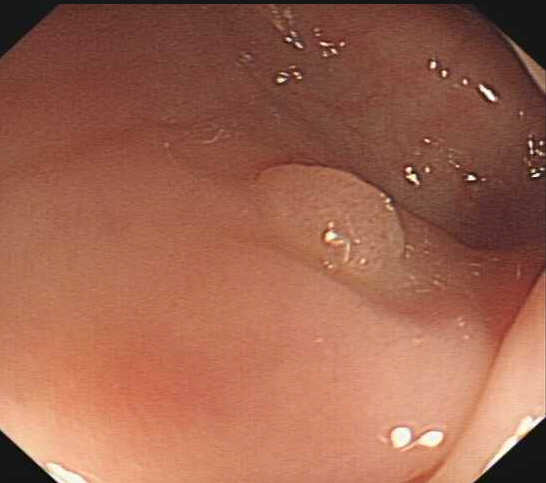adenoma: (246, 161, 409, 281)
